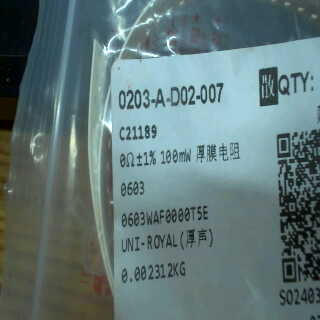0R: (117, 147, 194, 198)
